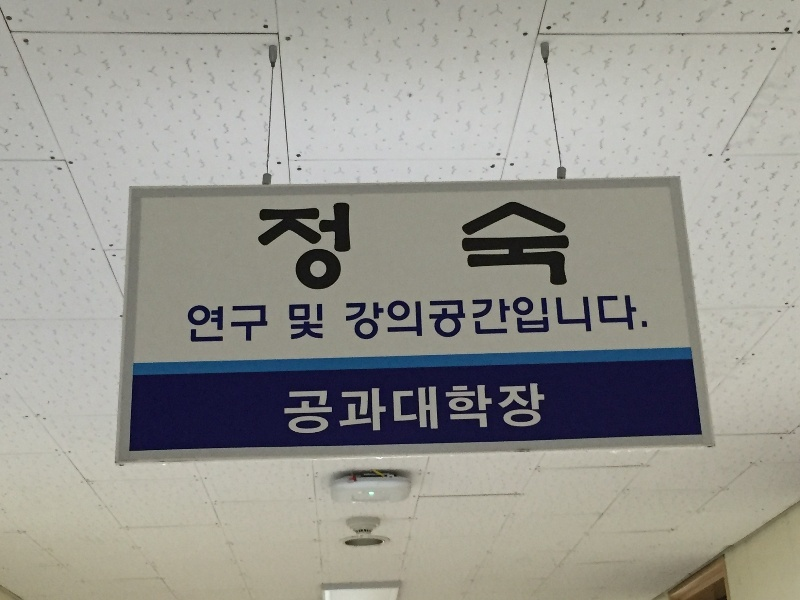text: (273, 199, 288, 291), (289, 199, 304, 291), (305, 199, 320, 291), (321, 199, 336, 291), (337, 199, 352, 291), (353, 199, 368, 291), (369, 199, 384, 291), (385, 199, 400, 291), (401, 199, 416, 291), (417, 199, 432, 291), (433, 199, 448, 291), (449, 199, 464, 291), (465, 199, 480, 291), (481, 199, 496, 291), (497, 199, 512, 291), (513, 199, 528, 291), (529, 199, 544, 291), (545, 199, 560, 291), (561, 199, 574, 291), (260, 199, 272, 291), (289, 382, 304, 437), (305, 382, 320, 437), (321, 382, 336, 437), (337, 382, 352, 437), (353, 382, 368, 437), (369, 382, 384, 437), (385, 382, 400, 437), (401, 382, 416, 437), (417, 382, 432, 437), (433, 382, 448, 437), (449, 382, 464, 437), (465, 382, 480, 437), (481, 382, 496, 437), (497, 382, 512, 437), (513, 382, 528, 437), (529, 382, 544, 437), (353, 292, 368, 343), (369, 292, 384, 343), (385, 292, 400, 343), (401, 292, 416, 343), (417, 292, 432, 343), (433, 292, 448, 343), (449, 292, 464, 343), (465, 292, 480, 343), (481, 292, 496, 343), (497, 292, 512, 343), (513, 292, 528, 343), (529, 292, 544, 343), (545, 292, 560, 343), (561, 292, 576, 343), (577, 292, 592, 343), (593, 292, 608, 343), (609, 292, 624, 343), (625, 292, 640, 343), (193, 302, 208, 345), (209, 302, 224, 345), (225, 302, 240, 345), (241, 302, 256, 345), (257, 302, 272, 345), (273, 302, 288, 345), (289, 302, 304, 345), (305, 302, 320, 345), (344, 292, 352, 343), (641, 292, 649, 343), (187, 302, 192, 345), (321, 302, 324, 345), (286, 382, 288, 437), (545, 382, 546, 437)
